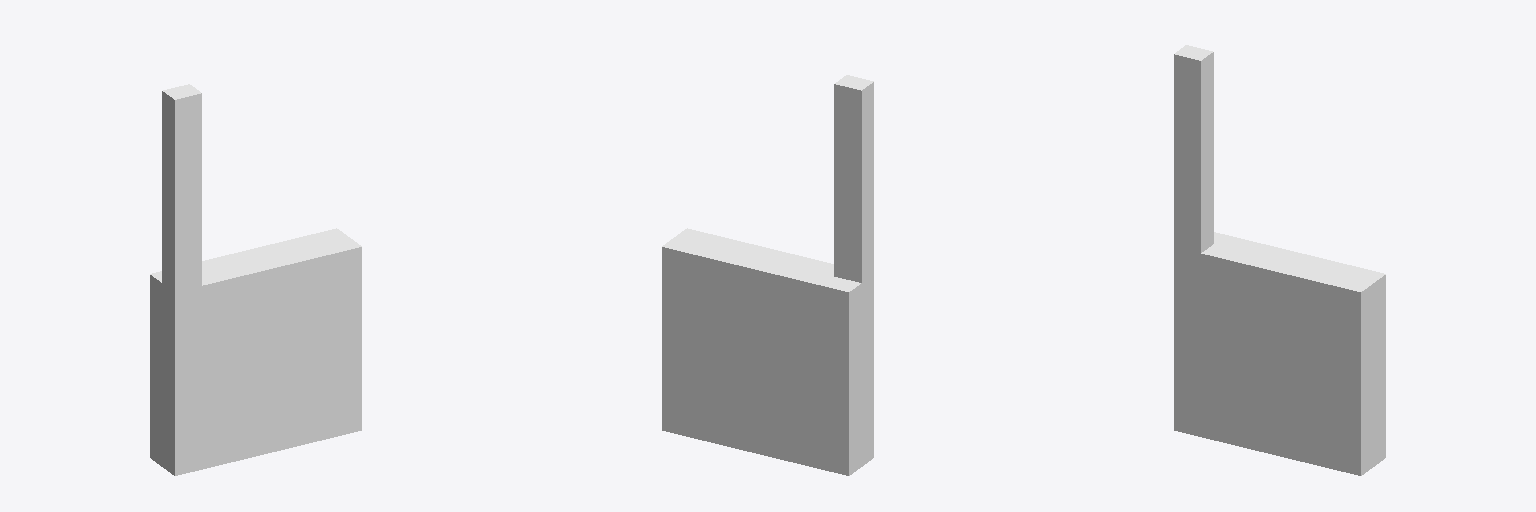
Rendered from Bomb.obj.
3 renders of one model, left to right at view 1: azimuth 30°, elevation 25°; view 2: azimuth 150°, elevation 25°; view 3: azimuth 330°, elevation 25°, orthographic.
Visible parts, largest first — view 1: Bomb; view 2: Bomb; view 3: Bomb.
Part boxes in pixels (x1,y1,x2,y2): Bomb: (150,84,361,475); Bomb: (662,75,873,475); Bomb: (1174,45,1385,475).
Size of the model in its own units: 0.3 by 0.5753 by 0.07.